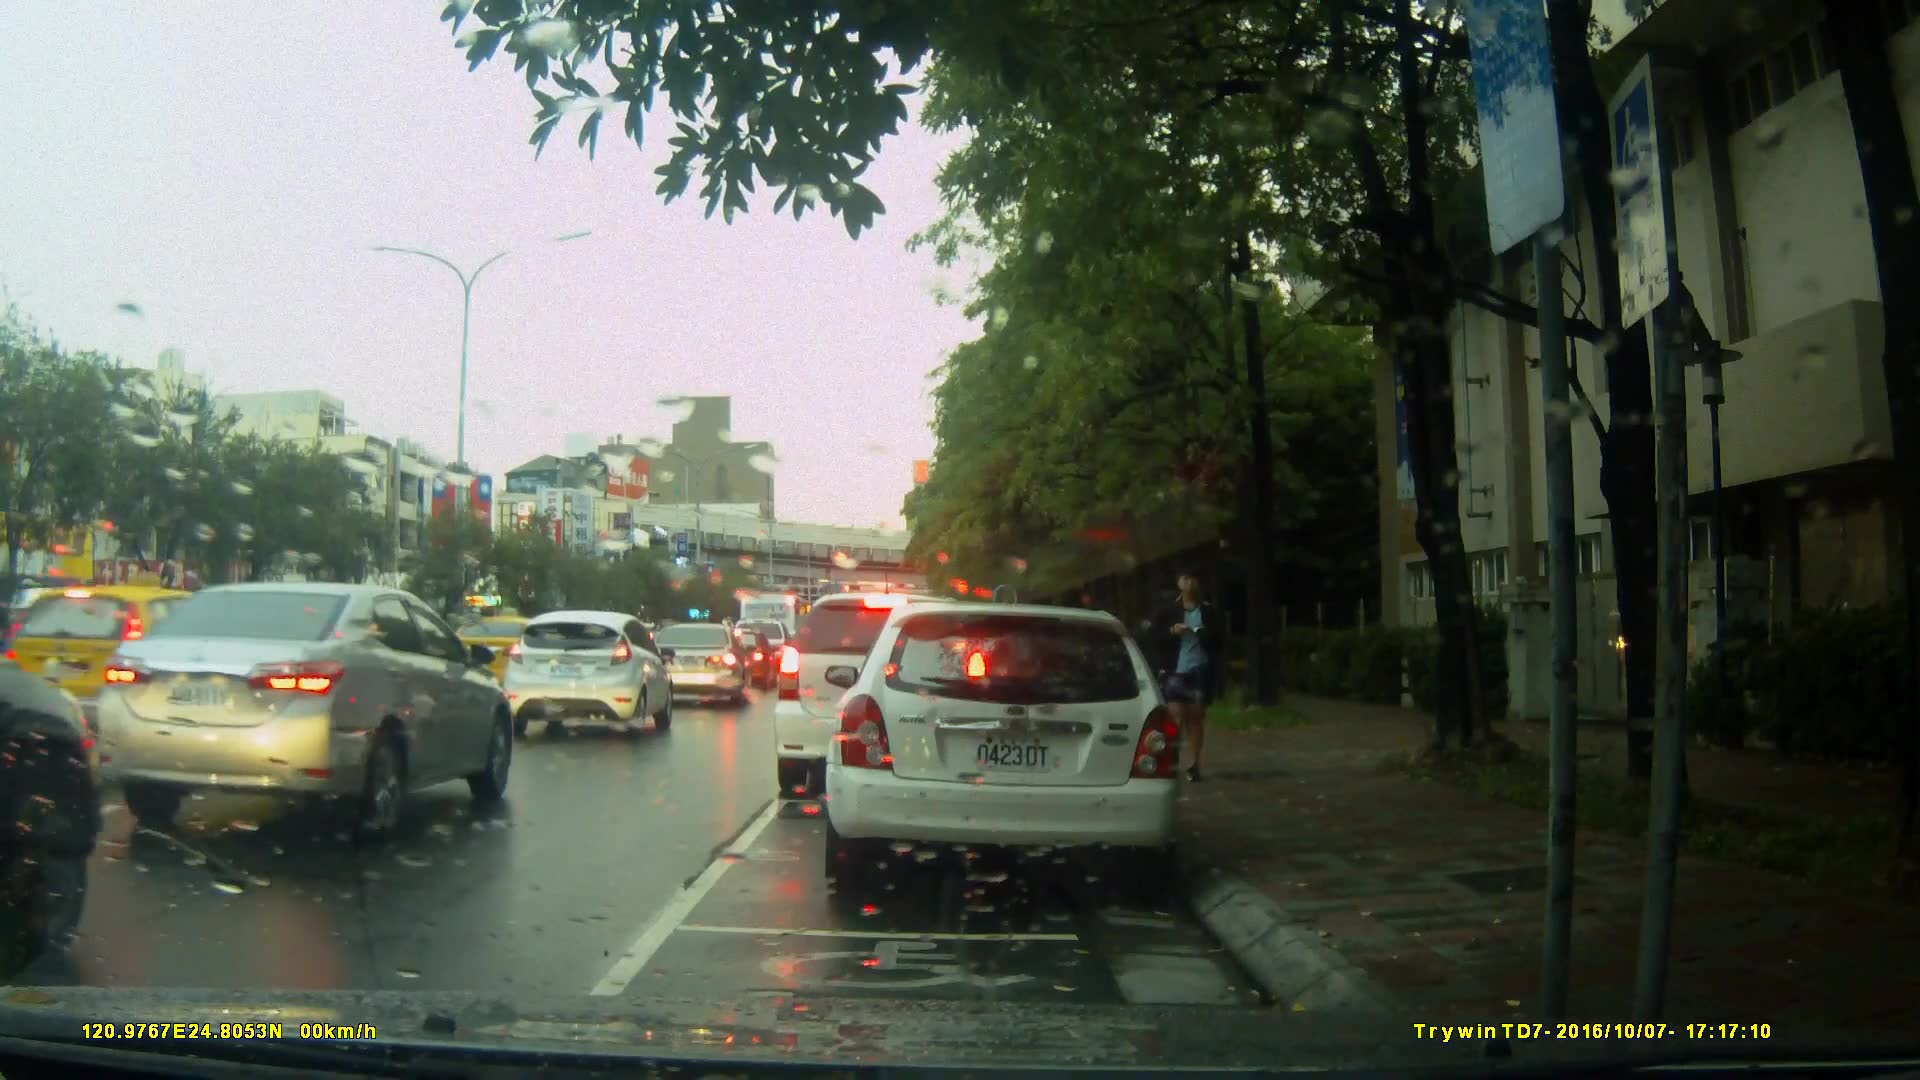pedestrian: (1149, 561, 1221, 751)
vehicle: (91, 579, 522, 840), (835, 594, 1194, 898), (776, 590, 1026, 784), (29, 581, 253, 767), (499, 609, 677, 738), (441, 614, 573, 699), (643, 621, 753, 712), (717, 578, 817, 665), (708, 629, 779, 689)
